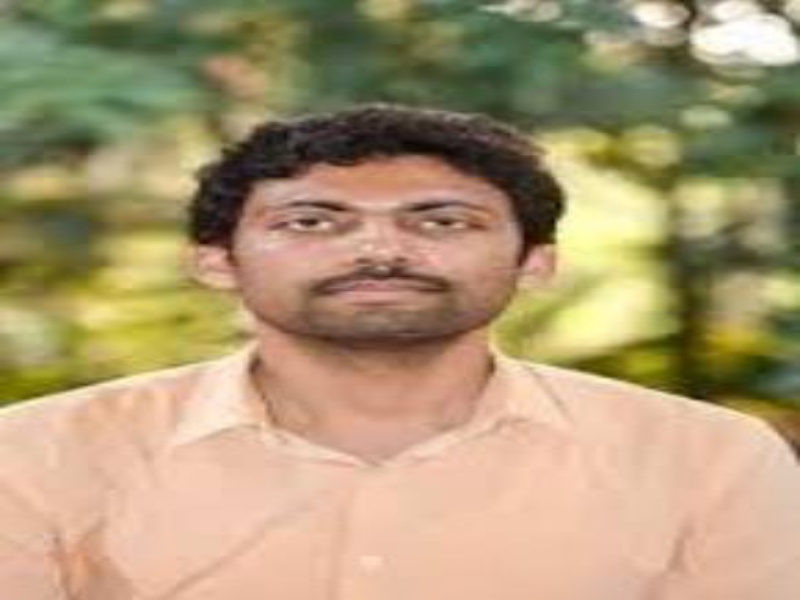TsisyArotava: (194, 121, 579, 377)
